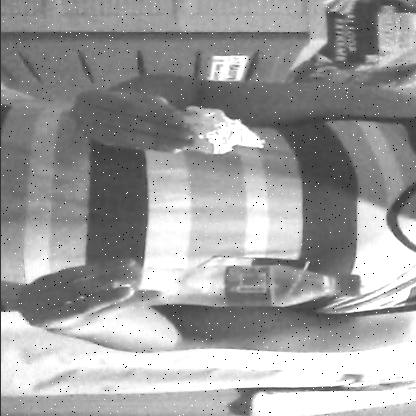Plastic Bottle: (95, 257, 373, 313)
